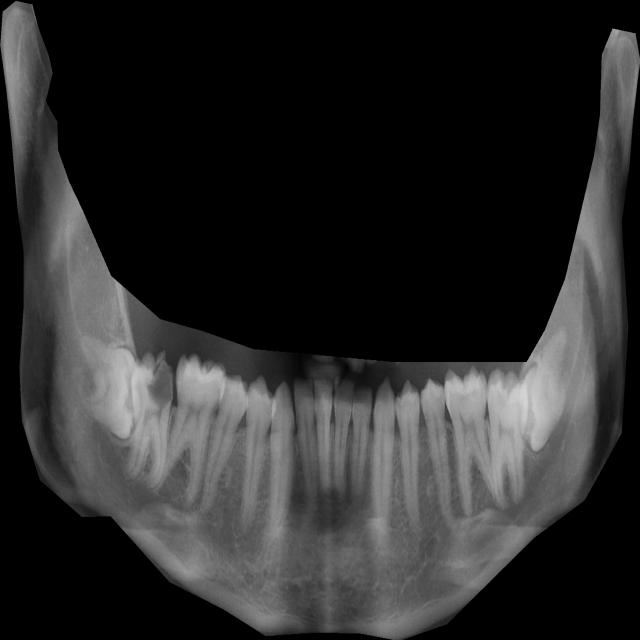mandibula: (0, 1, 640, 640)
